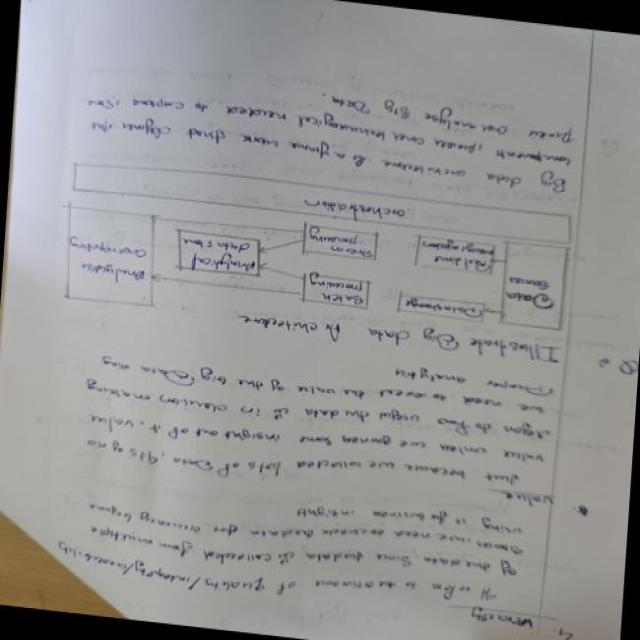Figure Detection - v3 Dataset Version2: (38, 136, 573, 358)
